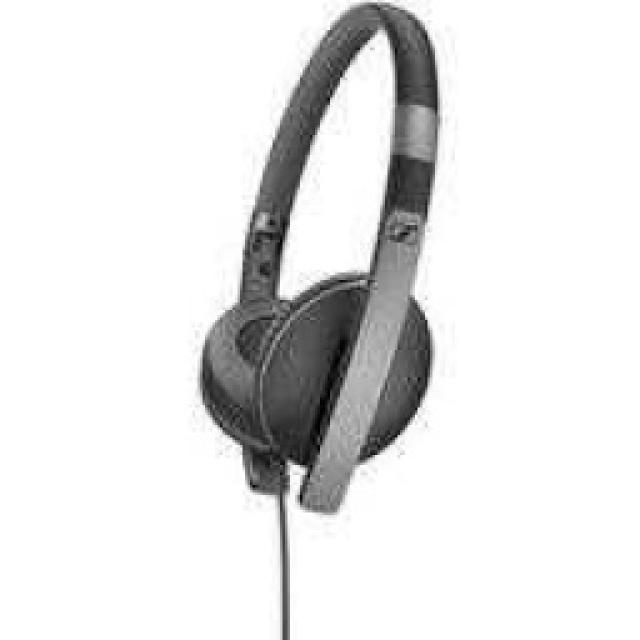headphones: (195, 0, 440, 512)
